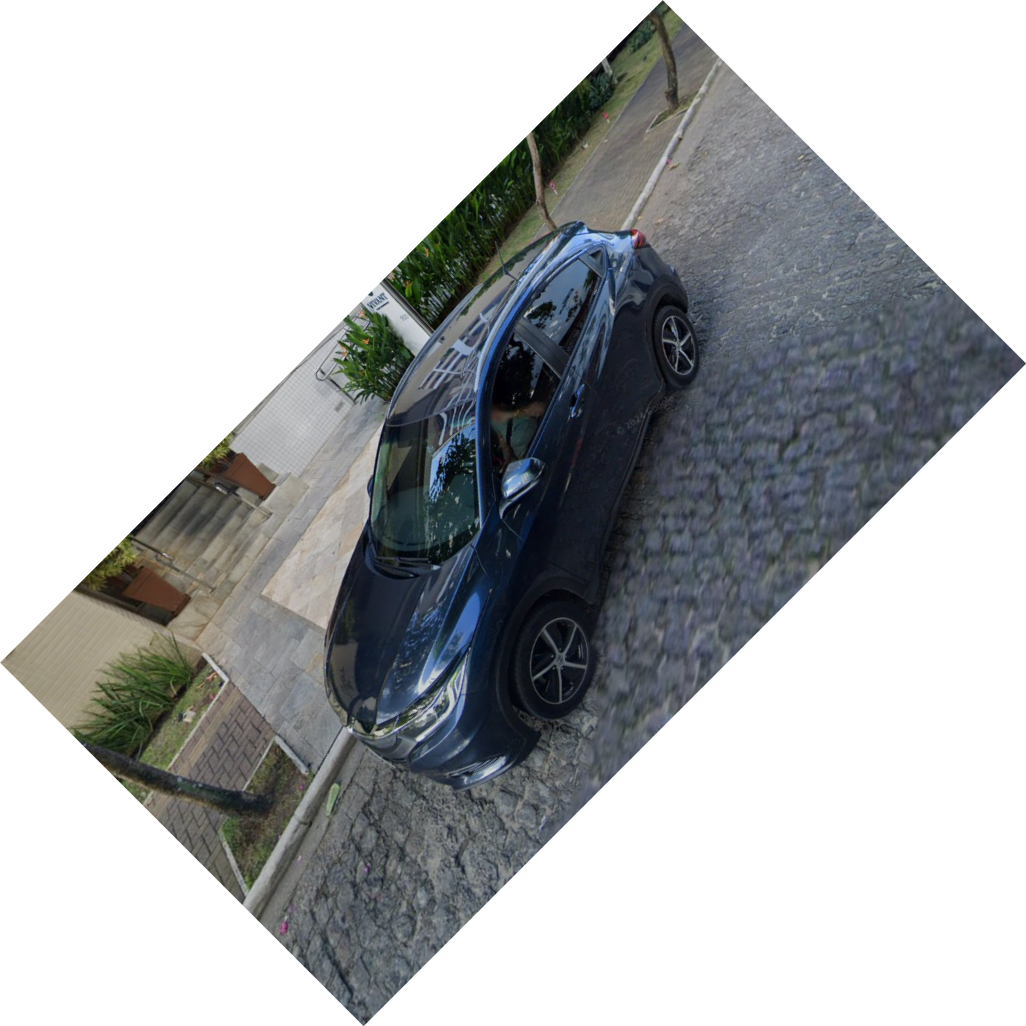car: (319, 217, 703, 798)
